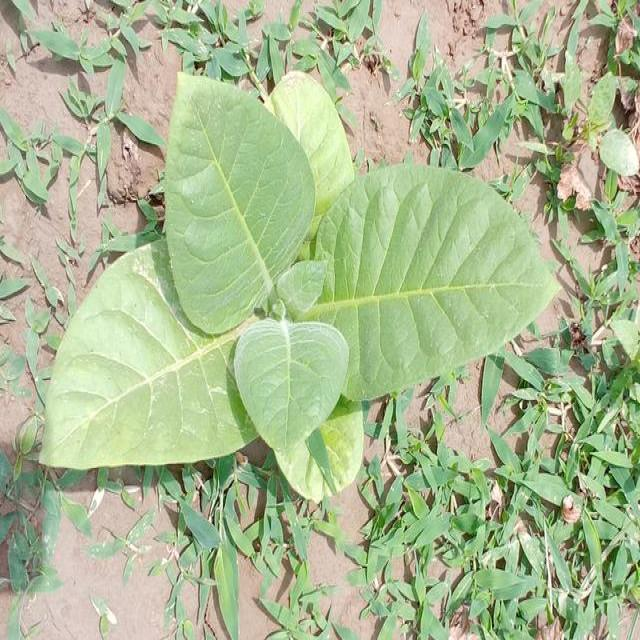crop: (39, 60, 560, 484)
